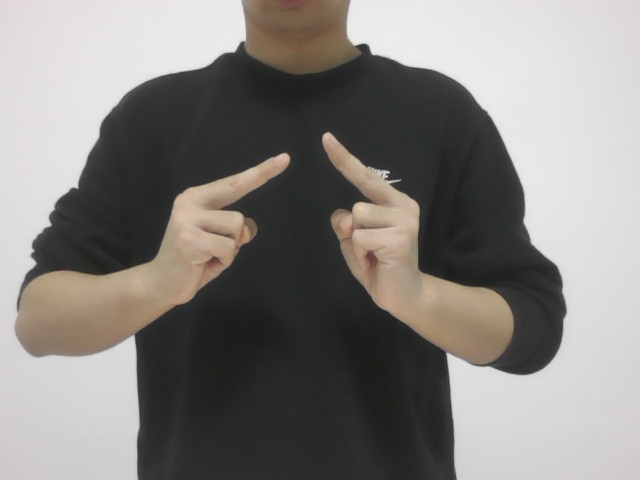know: (136, 123, 424, 328)
